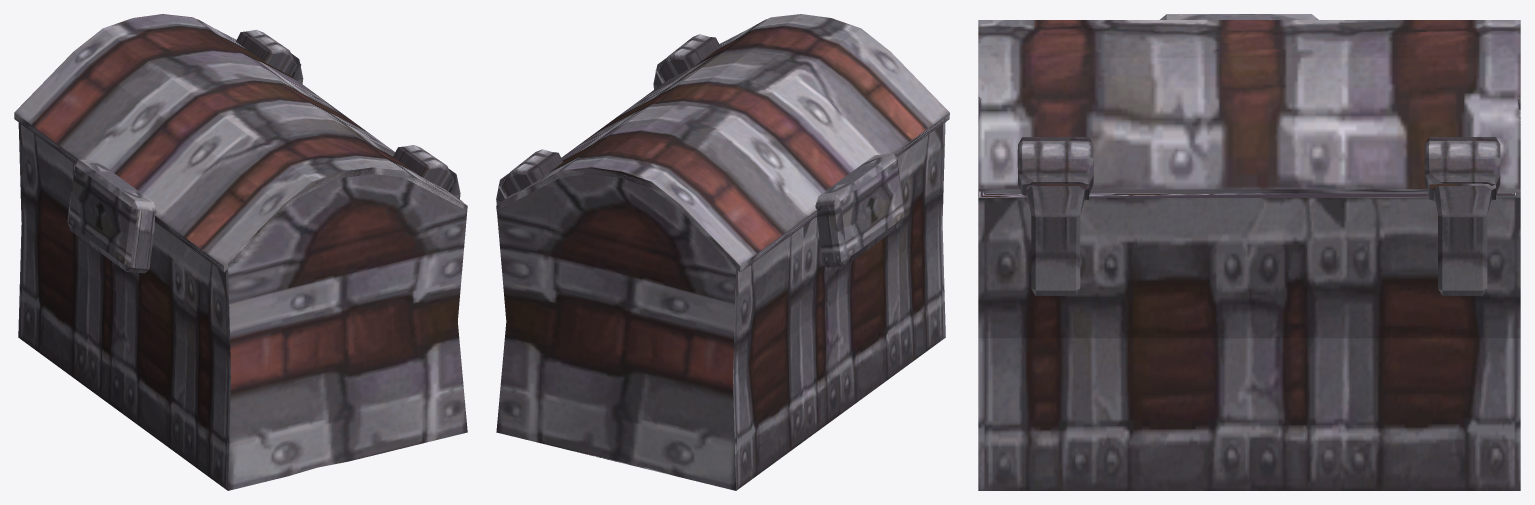
File: ChestCartoon.obj
3 renders of one model, left to right at view 1: azimuth 30°, elevation 25°; view 2: azimuth 150°, elevation 25°; view 3: azimuth 270°, elevation 25°, orthographic. The views are drawn at different scales.
Parts seen in each view (by area): view 1: Mesh.002_Cube.008, Mesh.001_Cube.006; view 2: Mesh.002_Cube.008, Mesh.001_Cube.006; view 3: Mesh.002_Cube.008, Mesh.001_Cube.006, Mesh.003_Cube.007.
Boxes of the visible parts, x1,y1,x2,y2 form: Mesh.002_Cube.008: (18, 19, 467, 490); Mesh.001_Cube.006: (14, 14, 463, 273); Mesh.002_Cube.008: (496, 19, 945, 490); Mesh.001_Cube.006: (500, 14, 949, 272); Mesh.002_Cube.008: (978, 97, 1520, 490); Mesh.001_Cube.006: (978, 14, 1520, 195); Mesh.003_Cube.007: (1031, 224, 1487, 295).
Bounding box in the file's own units: 0.5471 × 0.534 × 0.6959.
Materials: 2 (2 with a texture image).
